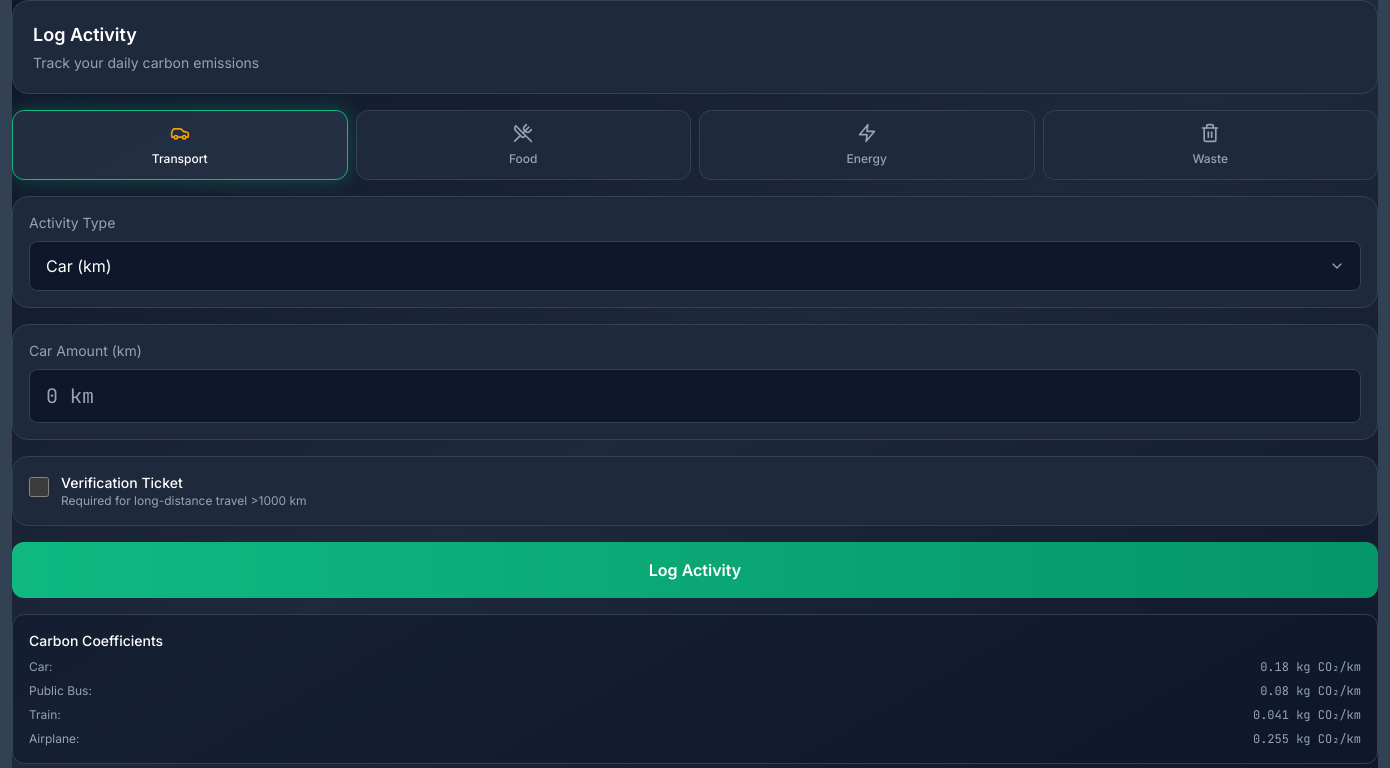
ActivityLogger – Submission › shows error when submission fails
Type "25" into the number field.
click(695, 396); type("25")  # box [29,369,1361,423]
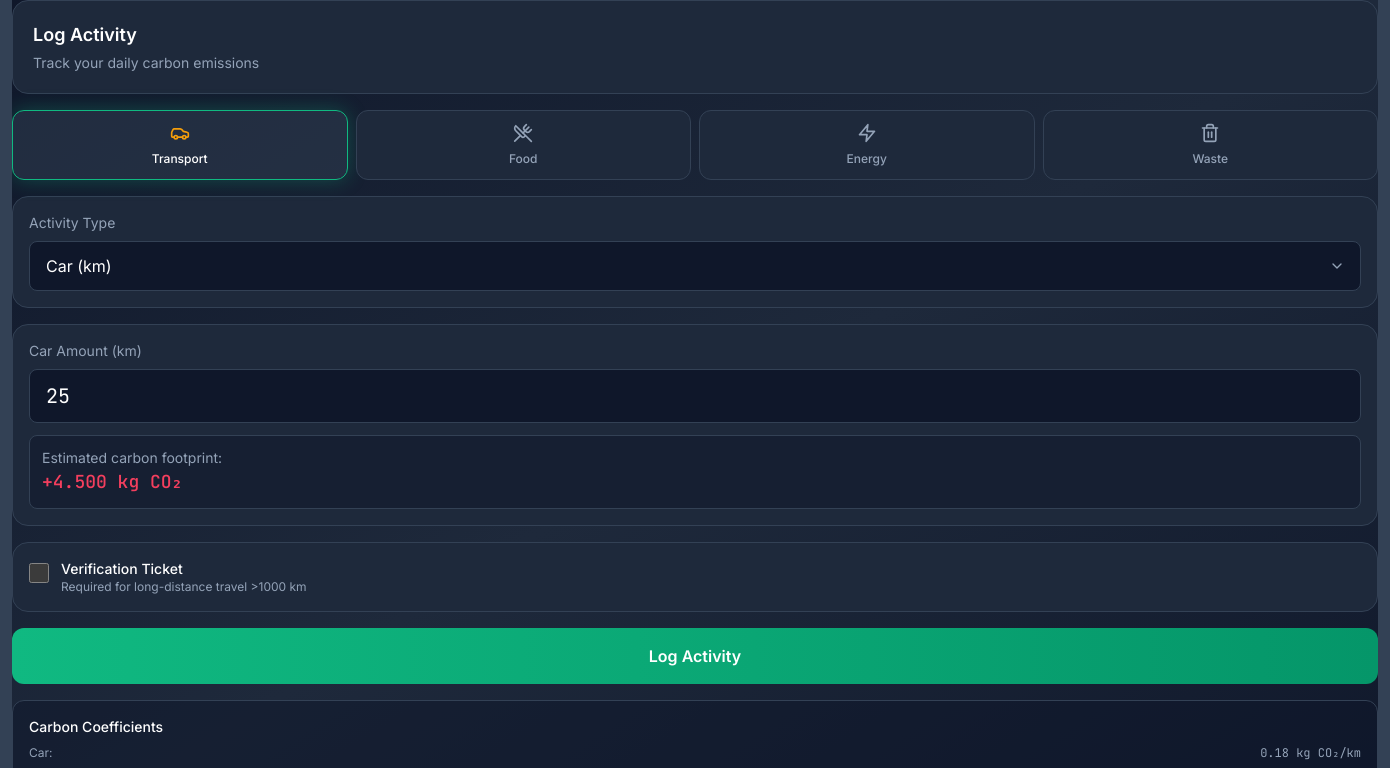
Click the button with aria-label "log this activity".
click(695, 656)  # box [12,628,1378,684]
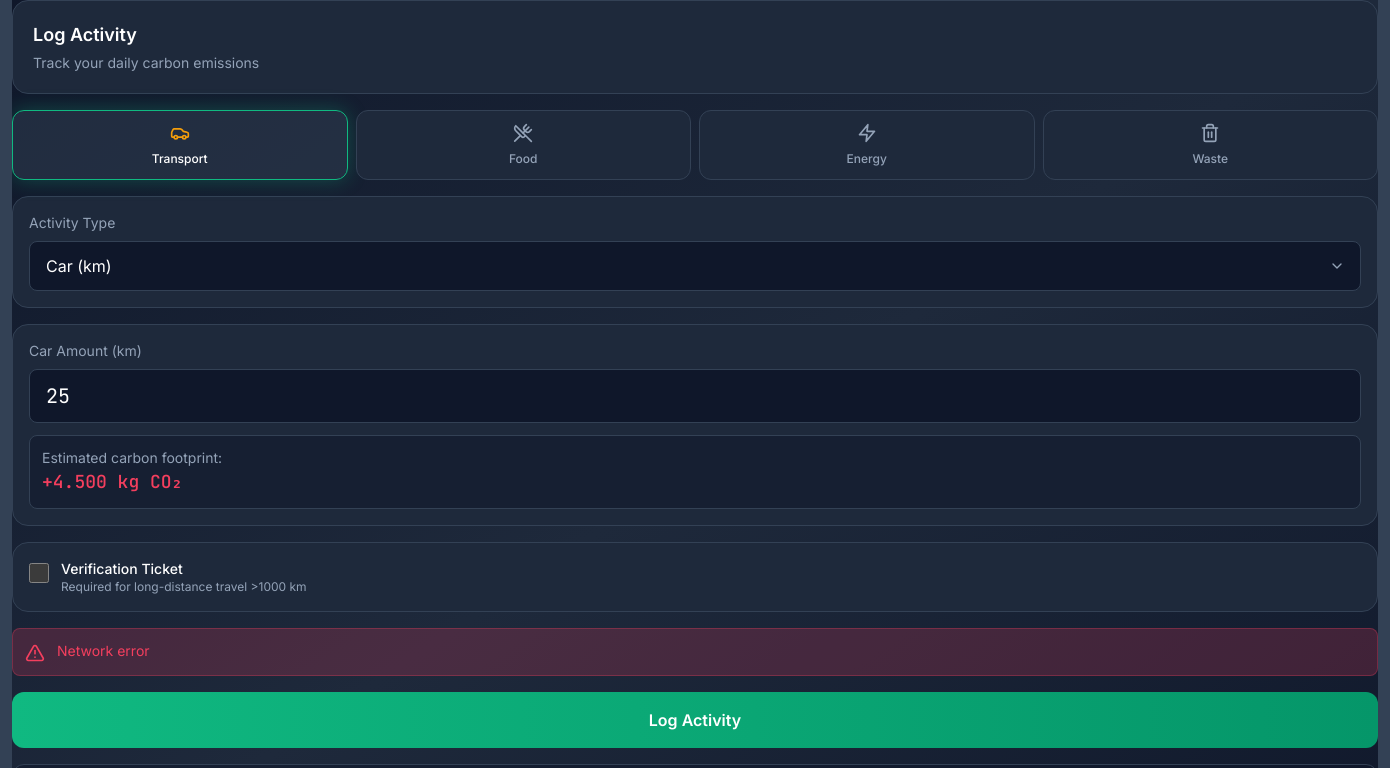
Check: the text "Network error" is shown, box [57,641,150,661]
